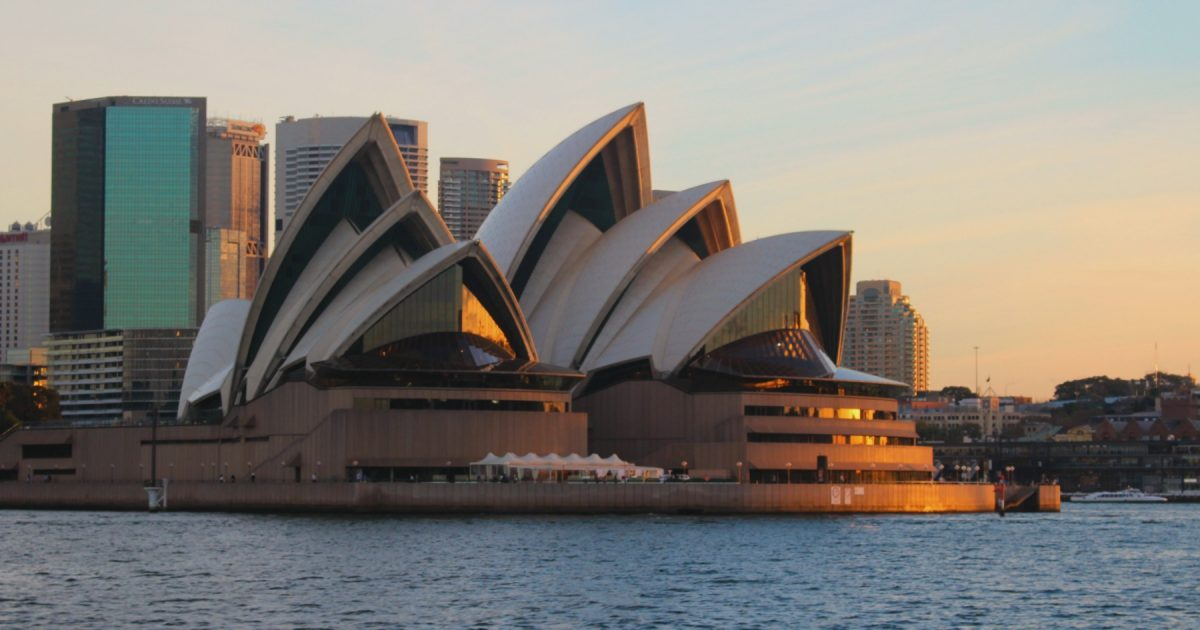opera house: (137, 98, 1048, 515)
